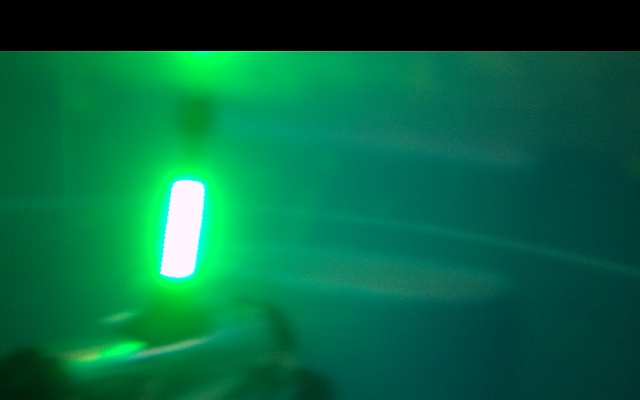green: (159, 172, 205, 297)
